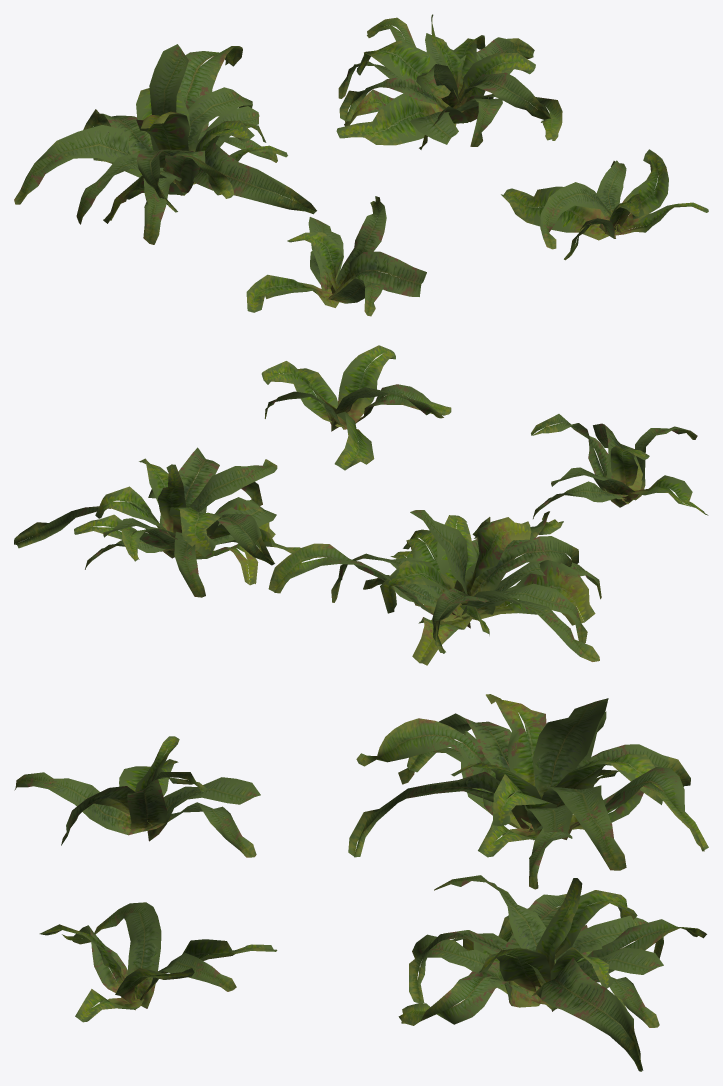
File: fern_02_lod0.gltf
The picture shows the model from 3 angles, top to bottom: view 1: azimuth 30°, elevation 25°; view 2: azimuth 150°, elevation 25°; view 3: azimuth 270°, elevation 25°; orthographic projection. The views are drawn at different scales.
Visible parts, largest first — view 1: fern_02_lod0; view 2: fern_02_lod0; view 3: fern_02_lod0.
Part boxes in pixels (x1=…): fern_02_lod0: x1=14, y1=14, x2=708, y2=316; fern_02_lod0: x1=14, y1=345, x2=708, y2=665; fern_02_lod0: x1=14, y1=694, x2=708, y2=1071.
Size of the model in its own units: 1.97 by 0.4261 by 1.72.
1 material, 1 textured.
